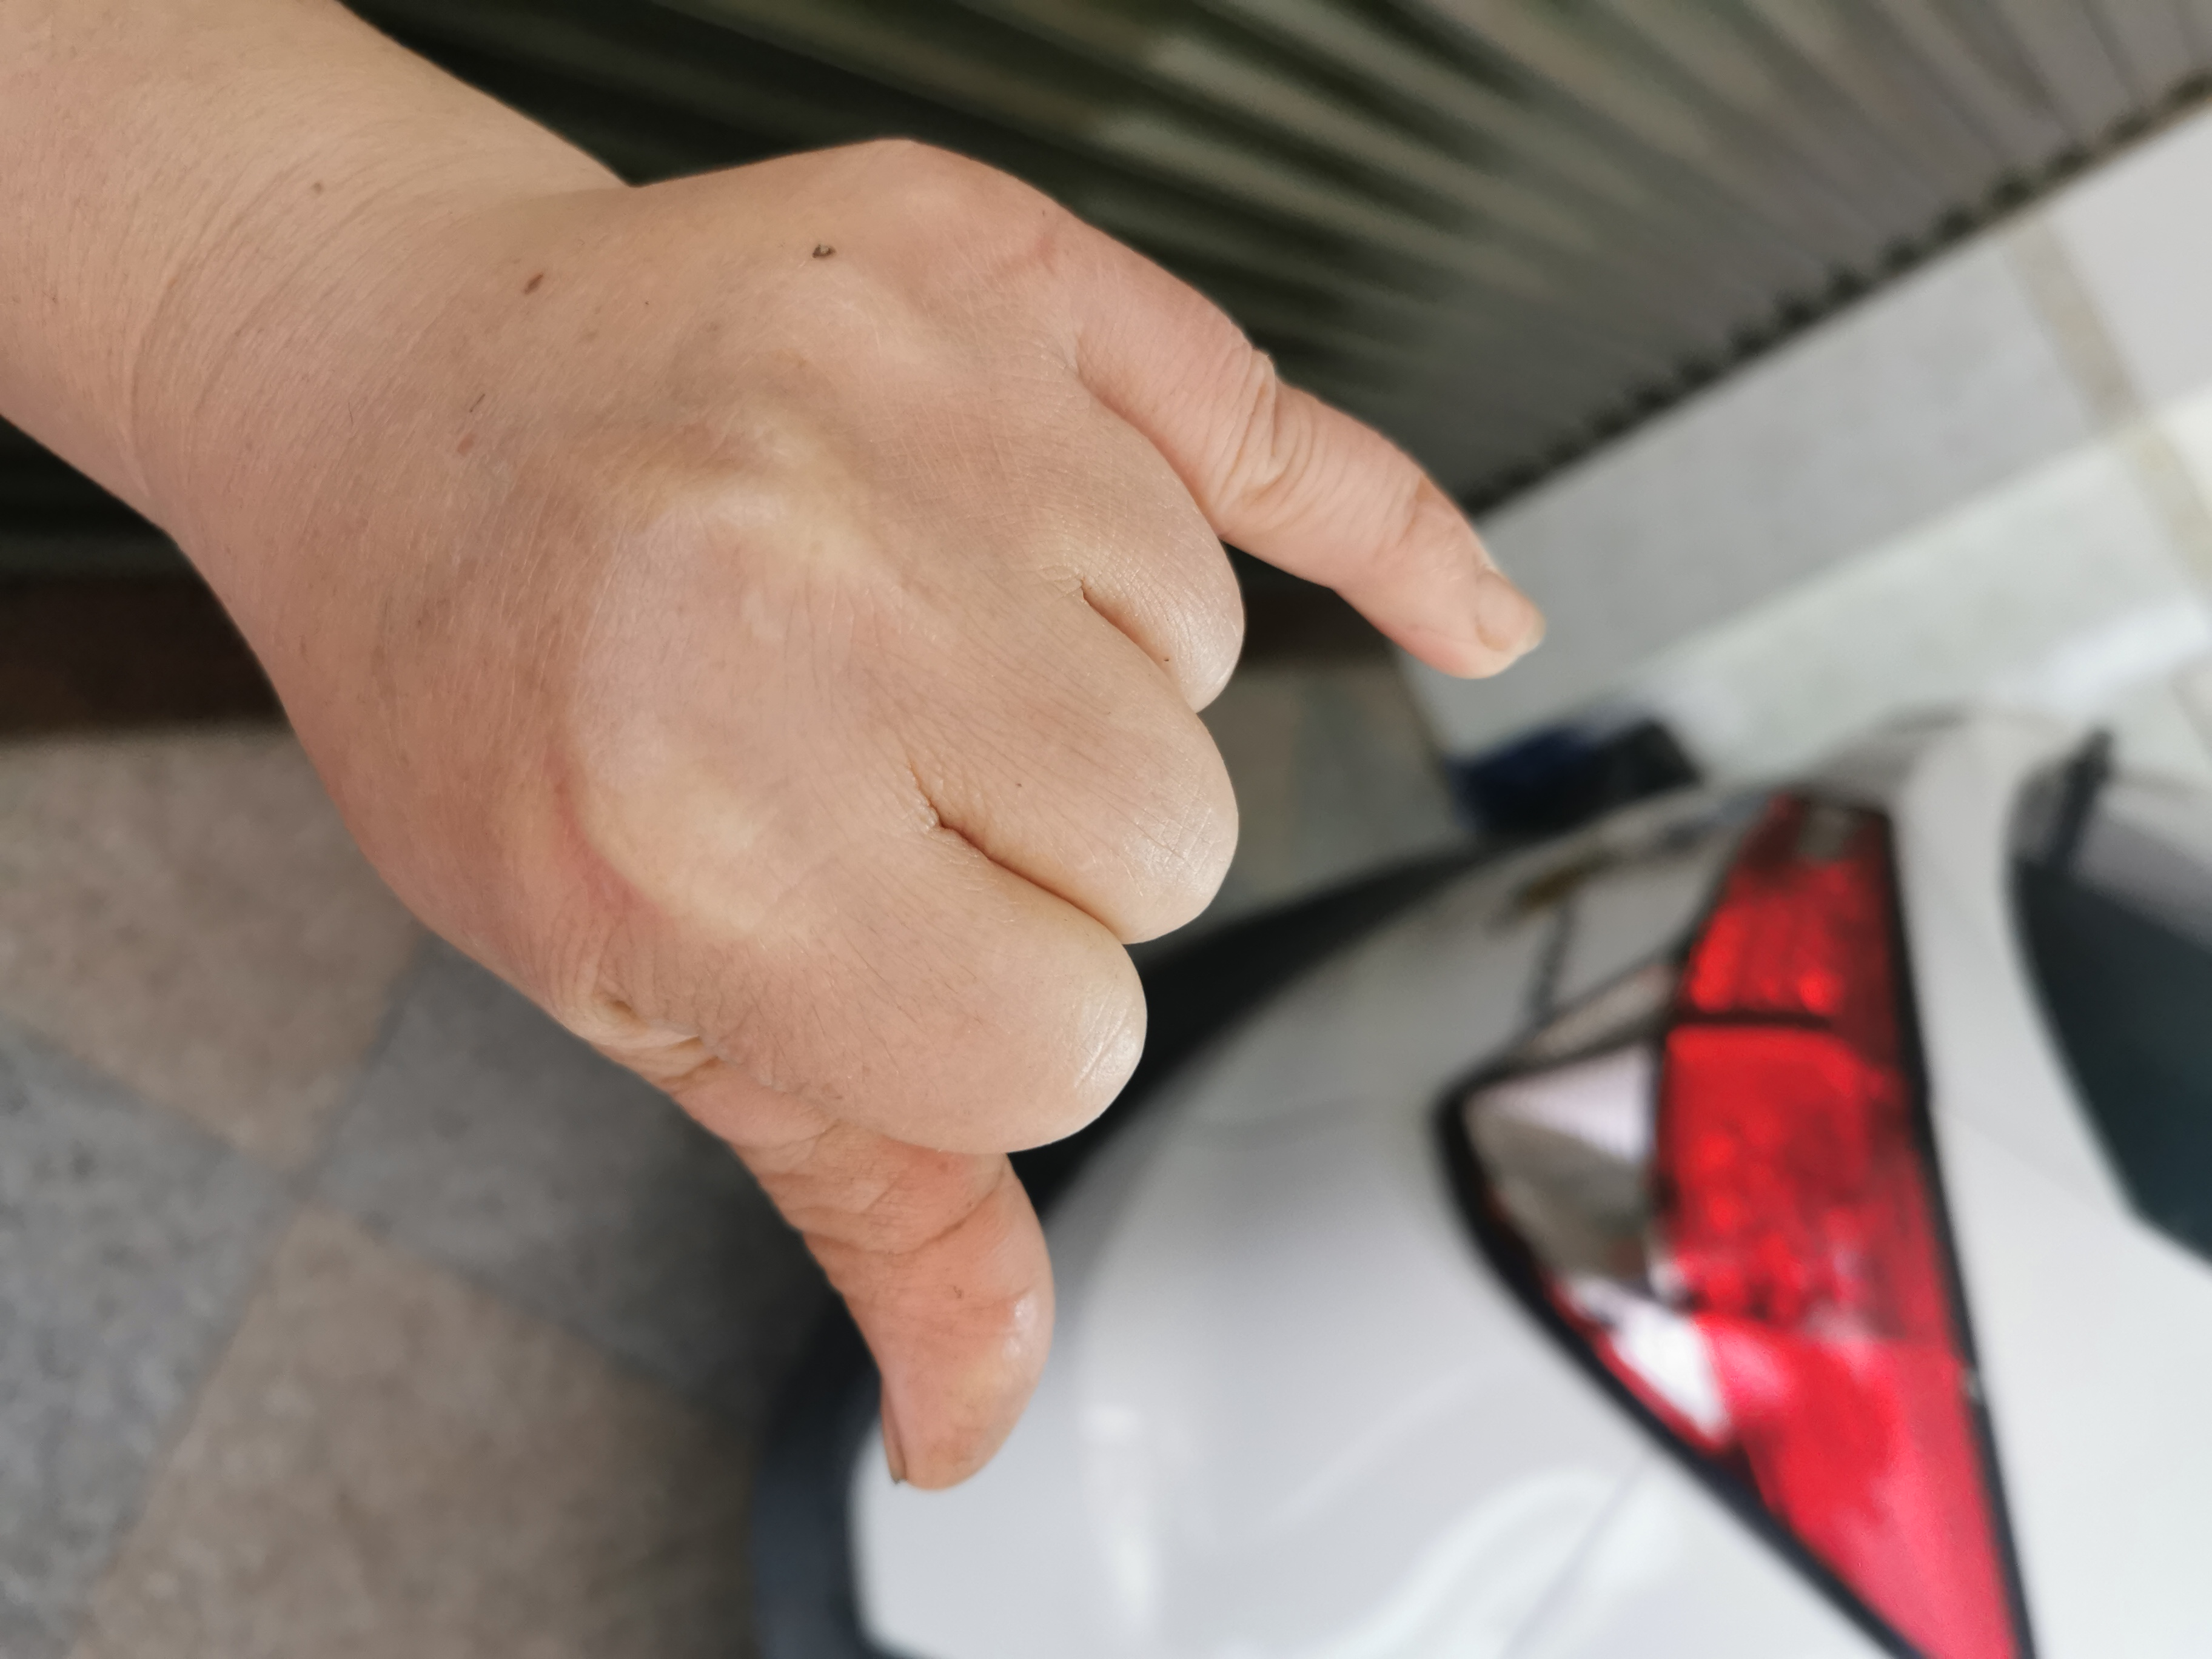clockwise: (199, 122, 1545, 1497)
